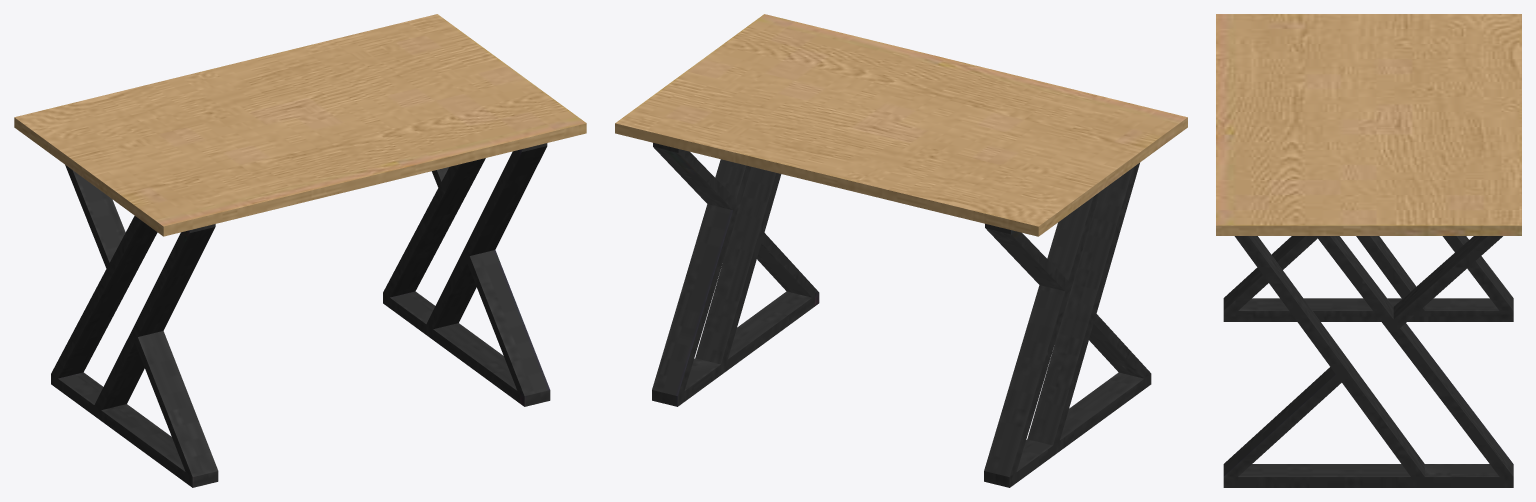
Rendered from Table08.glb.
The picture shows the model from 3 angles, left to right: view 1: azimuth 30°, elevation 25°; view 2: azimuth 150°, elevation 25°; view 3: azimuth 270°, elevation 25°; orthographic projection. The views are drawn at different scales.
Parts seen in each view (by area): view 1: Table08_model; view 2: Table08_model; view 3: Table08_model.
Part boxes in pixels (bbox=[...]): Table08_model: bbox=[14, 14, 586, 487]; Table08_model: bbox=[615, 14, 1187, 487]; Table08_model: bbox=[1216, 14, 1521, 487].
Size of the model in its own units: 2.59 by 1.59 by 1.58.
1 material, 1 textured.
